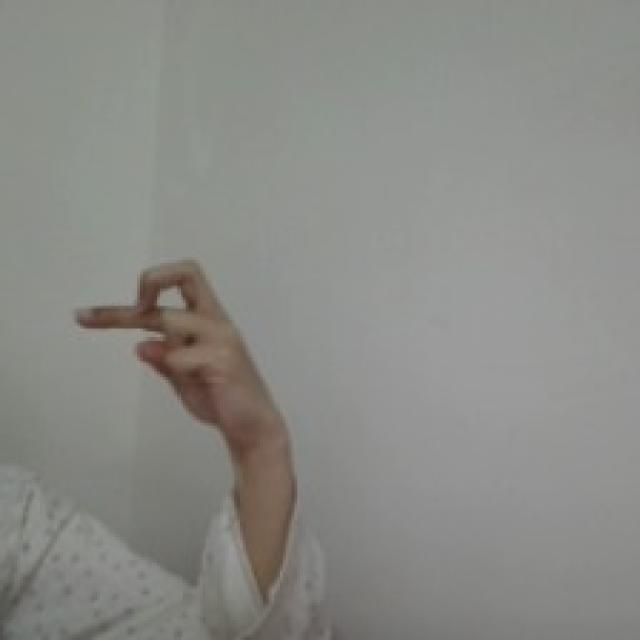sunday: (68, 250, 262, 442)
